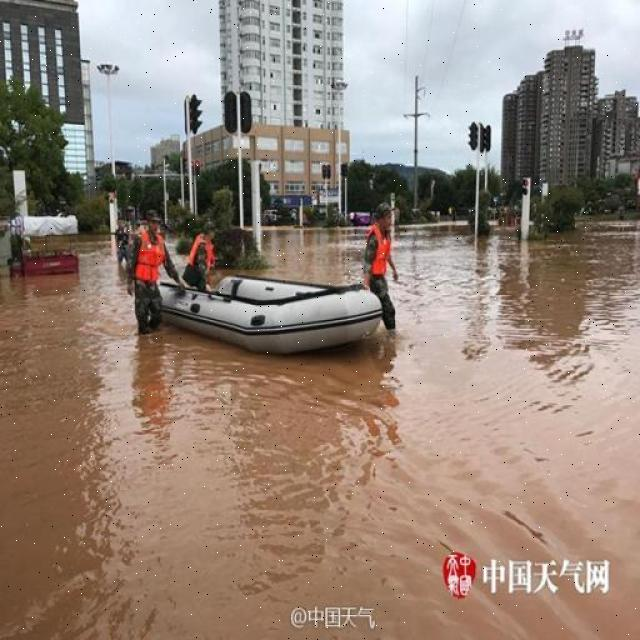rescuer: (116, 200, 186, 364), (348, 184, 412, 347), (171, 214, 226, 299)
